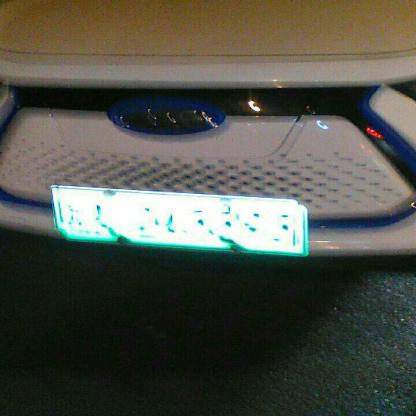lp: (53, 186, 65, 255)
